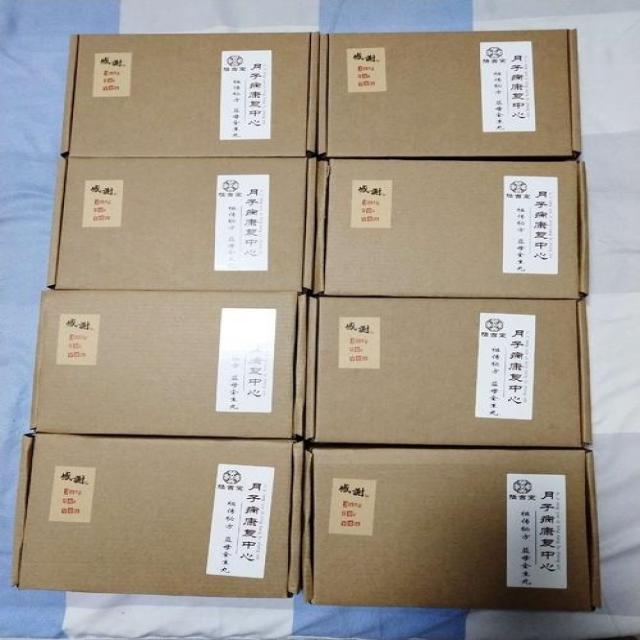box: (301, 442, 602, 613), (12, 432, 305, 602), (303, 294, 591, 448), (29, 290, 311, 439), (311, 158, 590, 300), (45, 156, 317, 293), (316, 28, 582, 159), (60, 31, 319, 157)
